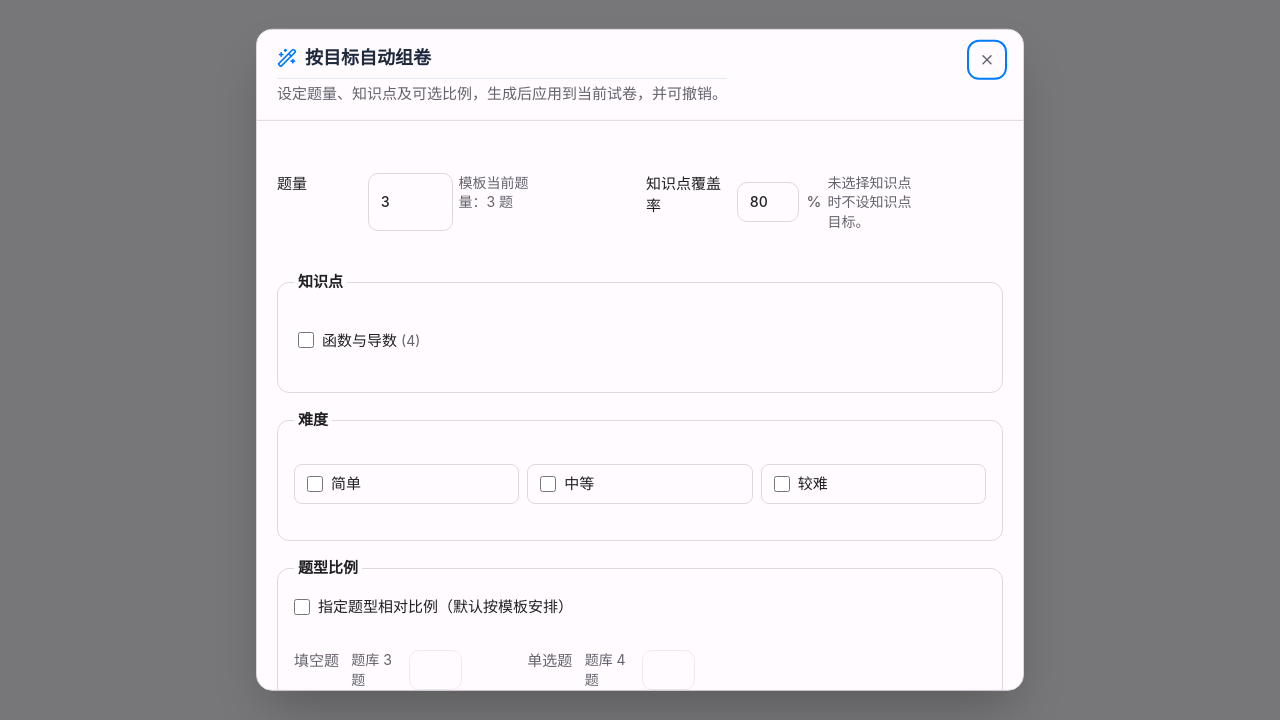
Test: AutoComposeDialog › loads subject options, submits target fields, and applies the returned result
Click the checkbox labelled "函数与导数(4)": (306, 340) [298,332,314,348]
(page scrolled)
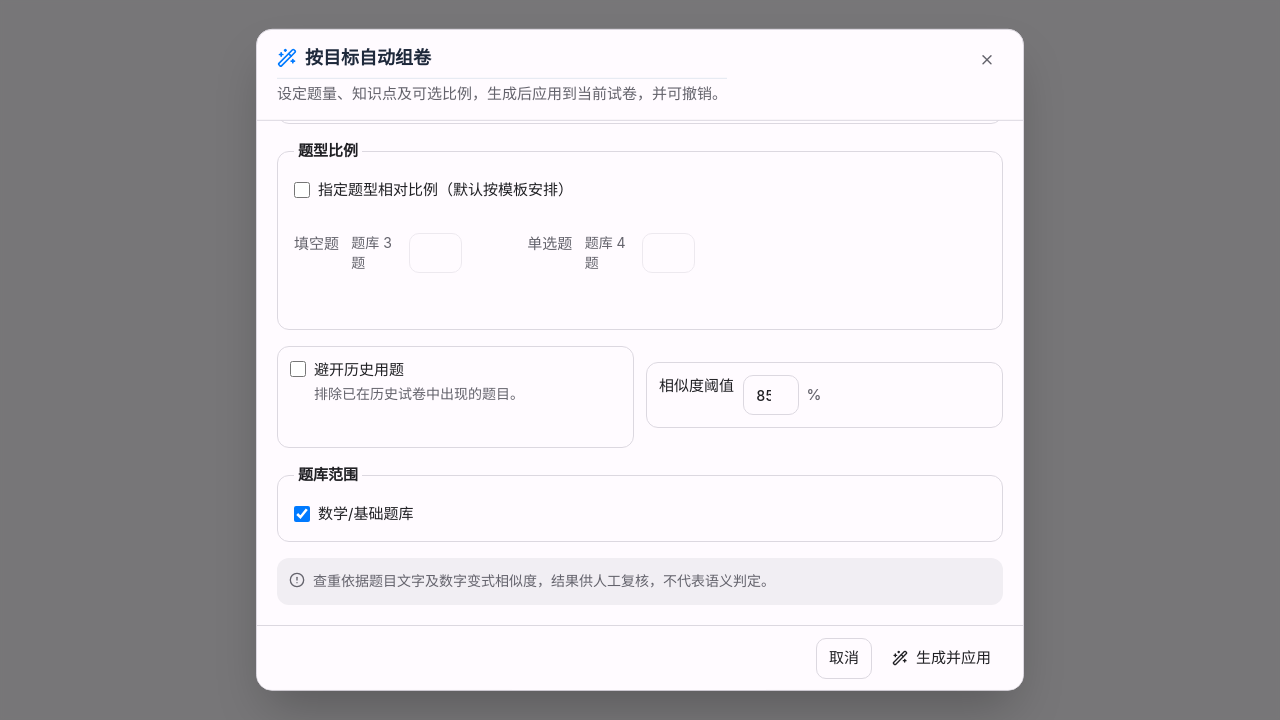
Click the button "生成并应用": (942, 658) [880,639,1003,677]
(page scrolled)
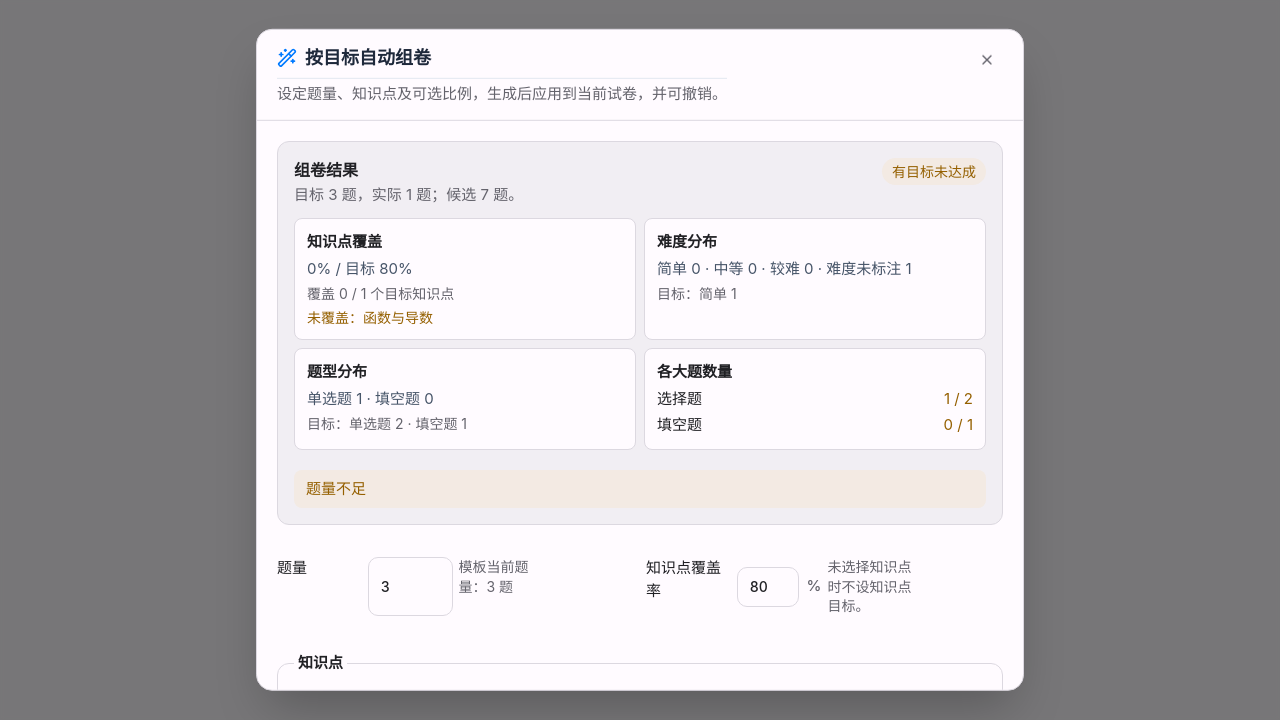
Check: the text "简单 0 · 中等 0 · 较难 0 · 难度未标注 1" is shown, box [657,258,912,277]
Check: the element with test id "auto-compose-result" shows "未覆盖：函数与导数", box [277,140,1003,525]
